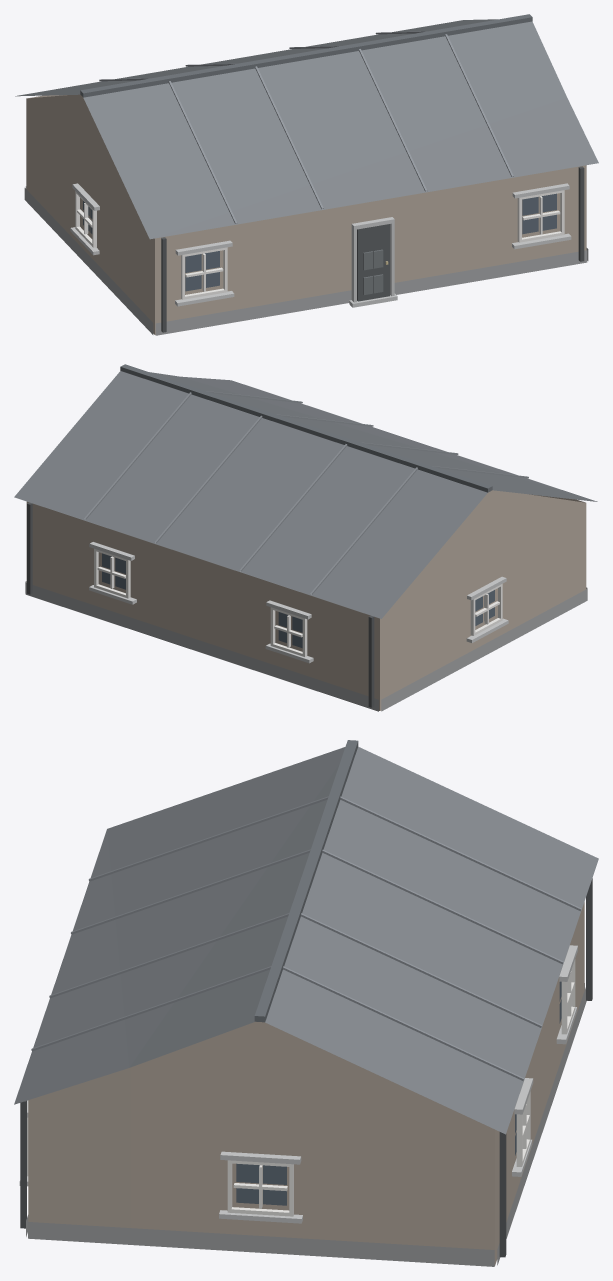
3 views of the same model, one above another, from view 1: azimuth 30°, elevation 25°; view 2: azimuth 150°, elevation 25°; view 3: azimuth 270°, elevation 25° (orthographic). The views are drawn at different scales.
Visible parts, largest first — view 1: slate, harl_brown, plinth, slate_dk, stone_band, frame, slate_lt, door_dark, pipe, door_dark_p; view 2: slate, harl_brown, plinth, slate_dk, slate_lt, frame, stone_band, pipe; view 3: slate, harl_brown, plinth, slate_lt, slate_dk, frame, pipe, stone_band.
Part boxes in pixels (x1,y1,x2,y2): slate: (15, 19, 598, 239); harl_brown: (26, 94, 586, 334); plinth: (24, 186, 588, 335); slate_dk: (80, 14, 532, 97); stone_band: (70, 183, 571, 307); frame: (75, 190, 564, 299); slate_lt: (99, 31, 513, 223); door_dark: (357, 224, 389, 301); pipe: (161, 166, 584, 332); door_dark_p: (363, 249, 383, 294); slate: (14, 371, 597, 618); harl_brown: (26, 490, 586, 710); plinth: (25, 581, 587, 711); slate_dk: (120, 364, 492, 492); slate_lt: (84, 391, 528, 595); frame: (94, 548, 502, 656); stone_band: (89, 542, 508, 663); pipe: (27, 502, 374, 707); slate: (14, 747, 598, 1134); harl_brown: (28, 902, 584, 1265); plinth: (26, 983, 586, 1266); slate_lt: (31, 796, 581, 1080); slate_dk: (254, 740, 358, 1022); frame: (27, 959, 575, 1216); pipe: (20, 878, 592, 1257); stone_band: (19, 945, 577, 1223).
Size of the model in its own units: 13.58 by 5.02 by 10.99.
